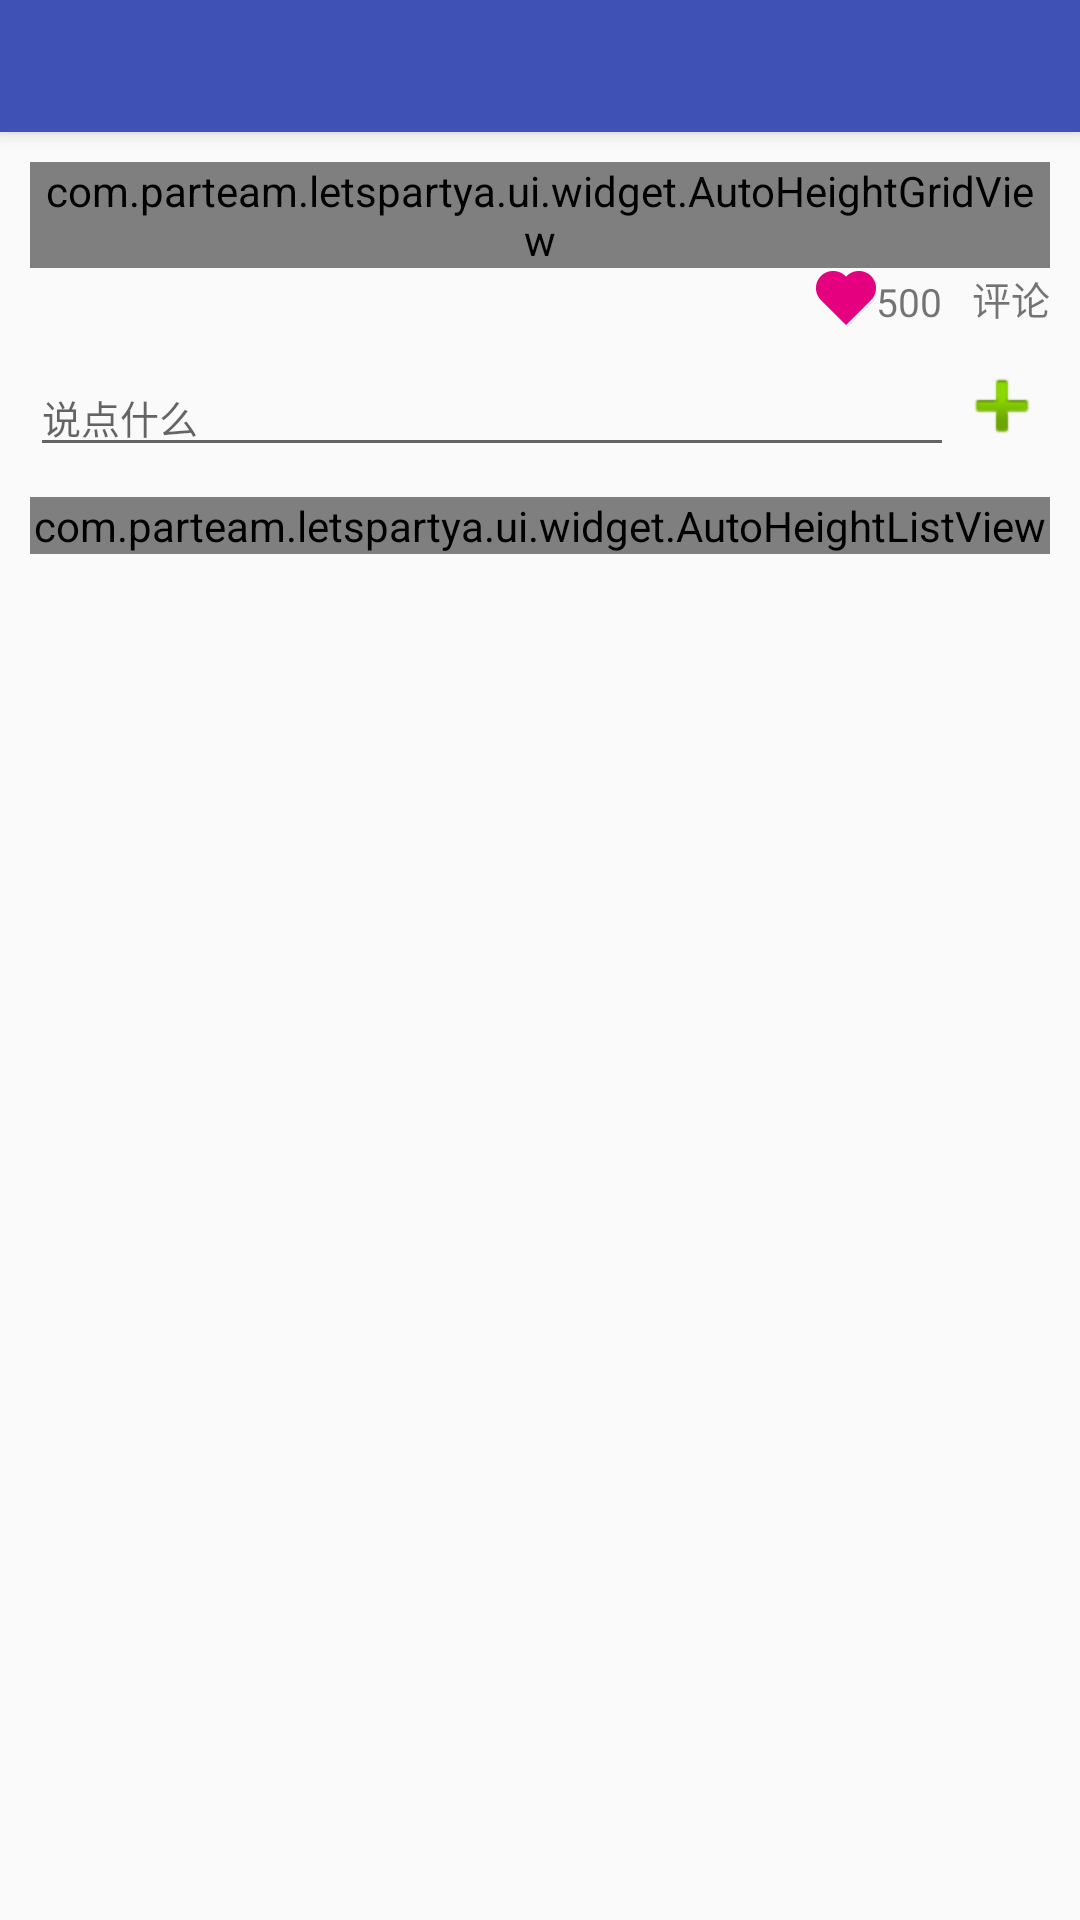

Screen size 1080×1920. Icon name, then its center in pixels as (x,y):
add: (1002,406)
